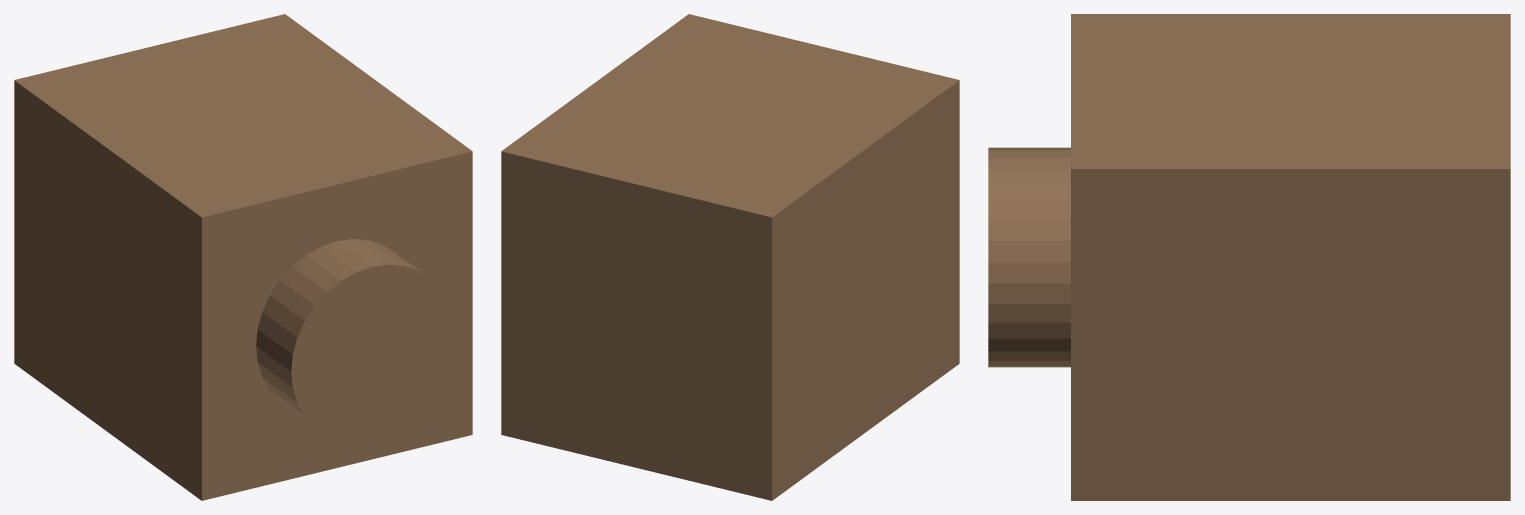
The model's file is brick_2.glb.
3 views of the same model, side by side, from view 1: azimuth 30°, elevation 25°; view 2: azimuth 150°, elevation 25°; view 3: azimuth 270°, elevation 25° (orthographic). The views are drawn at different scales.
Visible parts, largest first — view 1: world; view 2: world; view 3: world.
Boxes of the visible parts, x1,y1,x2,y2 form: world: (14, 14, 472, 500); world: (501, 14, 959, 500); world: (988, 14, 1510, 500).
Size of the model in its own units: 8 by 8 by 11.4.
